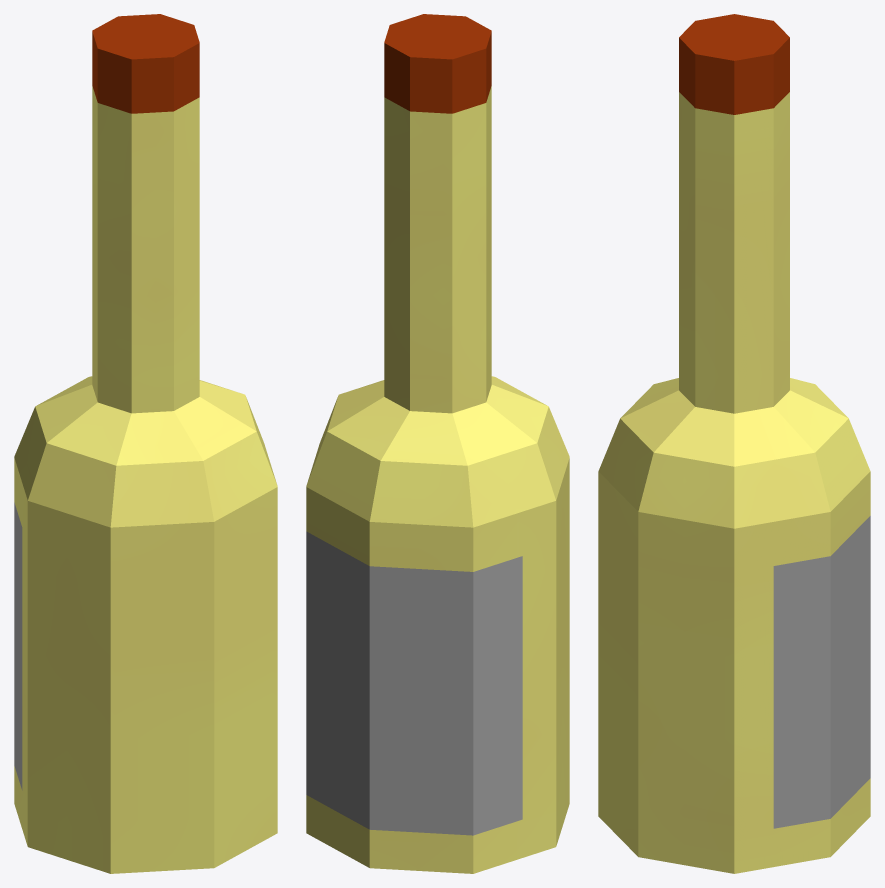
The model's file is bottle_5.fbx.
The picture shows the model from 3 angles, left to right: view 1: azimuth 30°, elevation 25°; view 2: azimuth 150°, elevation 25°; view 3: azimuth 270°, elevation 25°; orthographic projection.
Parts seen in each view (by area): view 1: bottle_5; view 2: bottle_5; view 3: bottle_5.
Part boxes in pixels (box(x1,y1,x2,y2)): bottle_5: box(14, 14, 277, 873); bottle_5: box(306, 14, 569, 873); bottle_5: box(598, 14, 870, 873).
Size of the model in its own units: 4.17 by 13.19 by 4.17.
